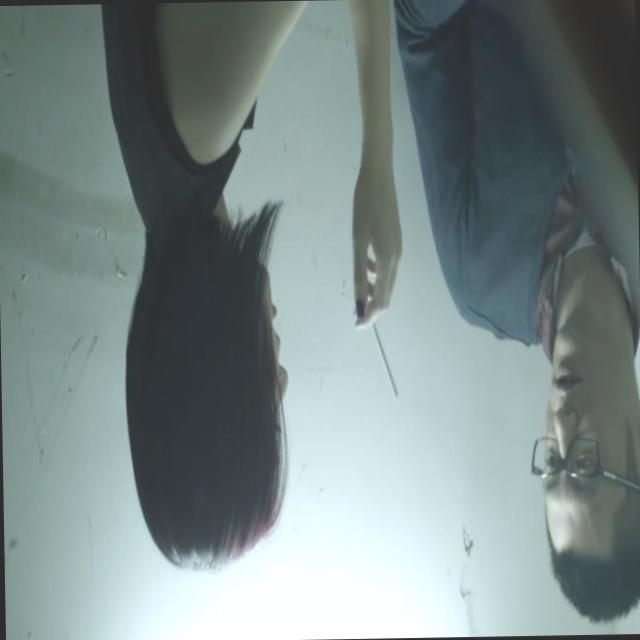smoke: (368, 330, 398, 403)
